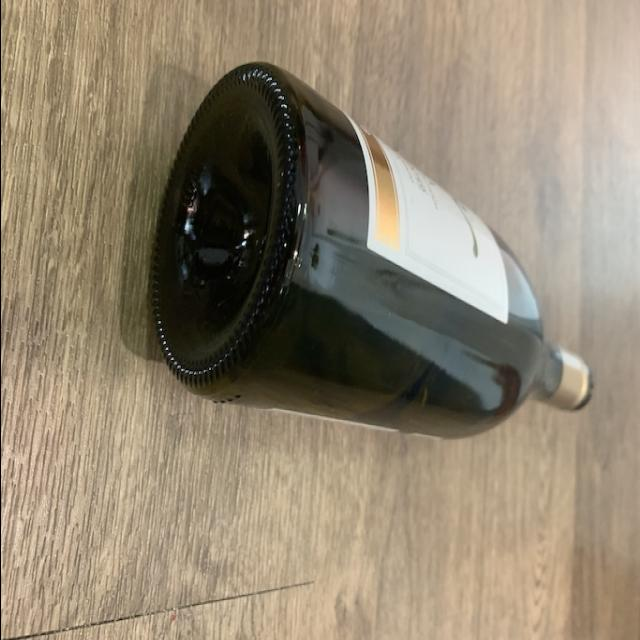litter: (149, 60, 599, 445)
